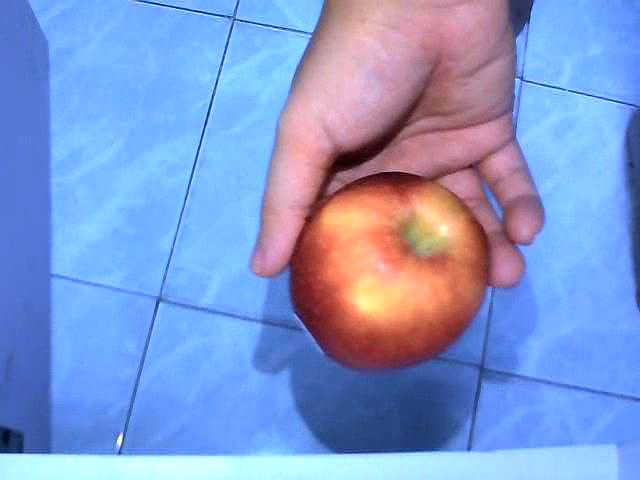apple: (288, 171, 491, 373)
